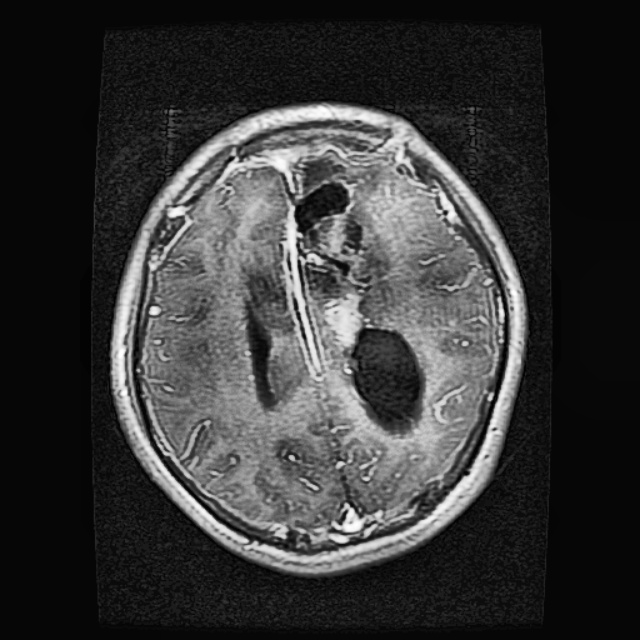Glioma: (349, 325, 424, 429)
